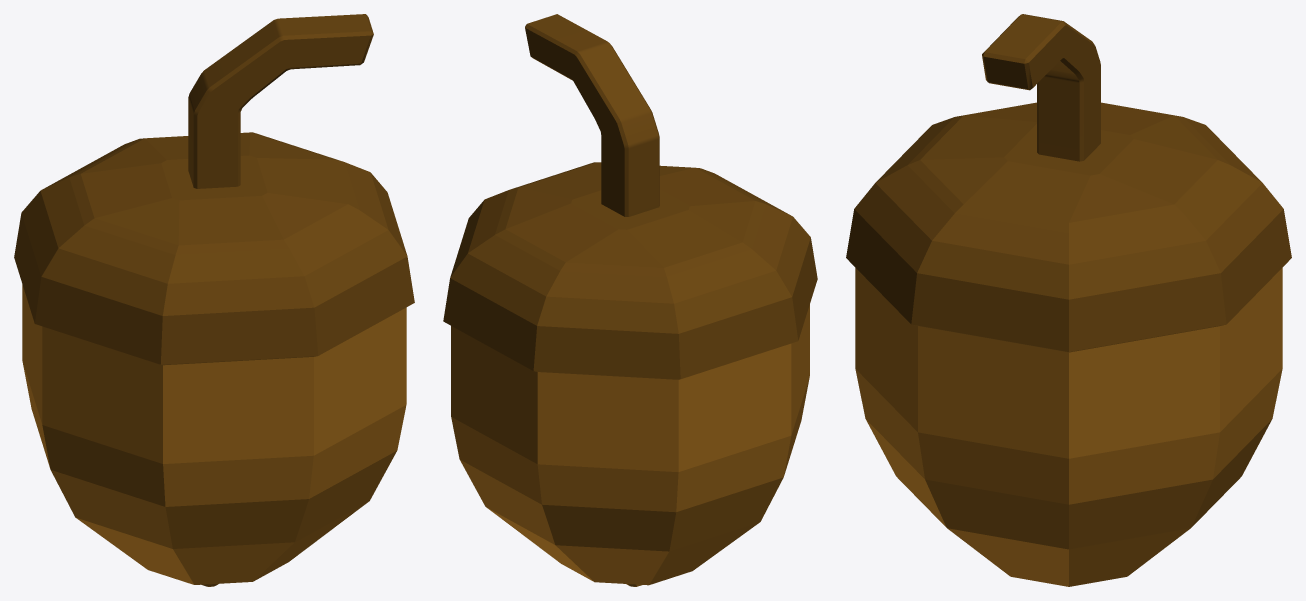
The model's file is Acorn.fbx.
3 views of the same model, side by side, from view 1: azimuth 30°, elevation 25°; view 2: azimuth 150°, elevation 25°; view 3: azimuth 270°, elevation 25° (orthographic). The views are drawn at different scales.
Parts seen in each view (by area): view 1: polySurface1; view 2: polySurface1; view 3: polySurface1.
Part boxes in pixels (left/top/right/bottom): polySurface1: left=14, top=14, right=414, bottom=586; polySurface1: left=443, top=14, right=817, bottom=586; polySurface1: left=846, top=14, right=1291, bottom=586.
Bounding box in the file's own units: 8.76 × 12.93 × 8.76.
